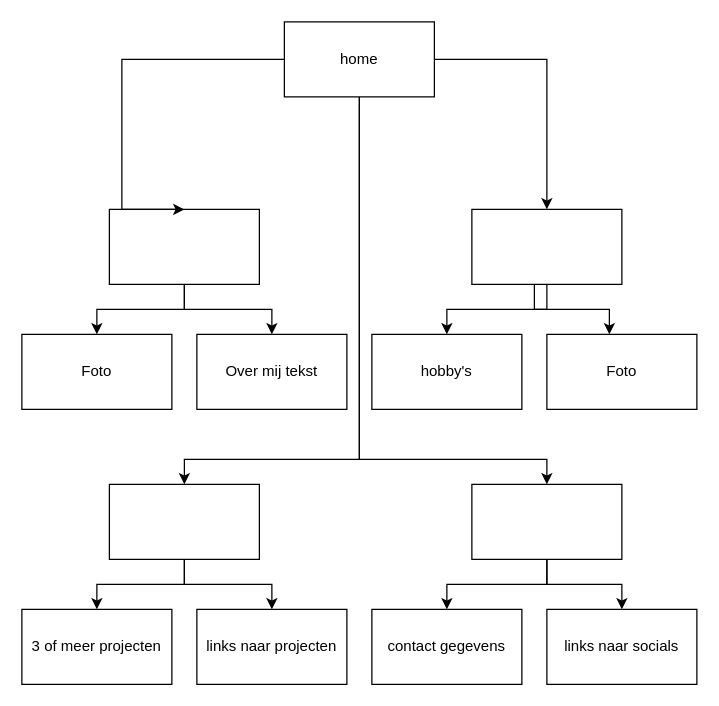
The diagram is 719 pixels wide and 706 high, and some of its shapes have lost their labels. Each missing label, with the centre of its shape:
"About" goes at point 183,246.
"contact" goes at point 546,521.
"interests" goes at point 546,246.
"projects" goes at point 183,521.
